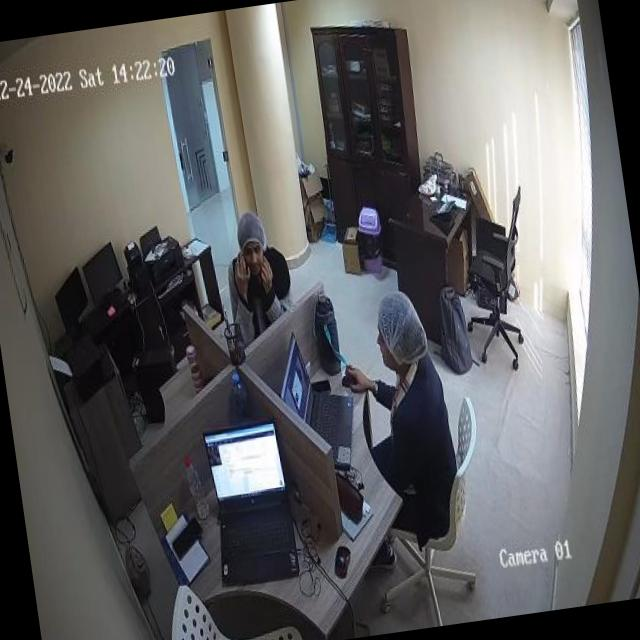hairnet: (377, 290, 430, 364), (234, 212, 266, 254)
